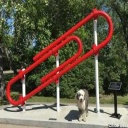Metal: (0, 2, 122, 110)
